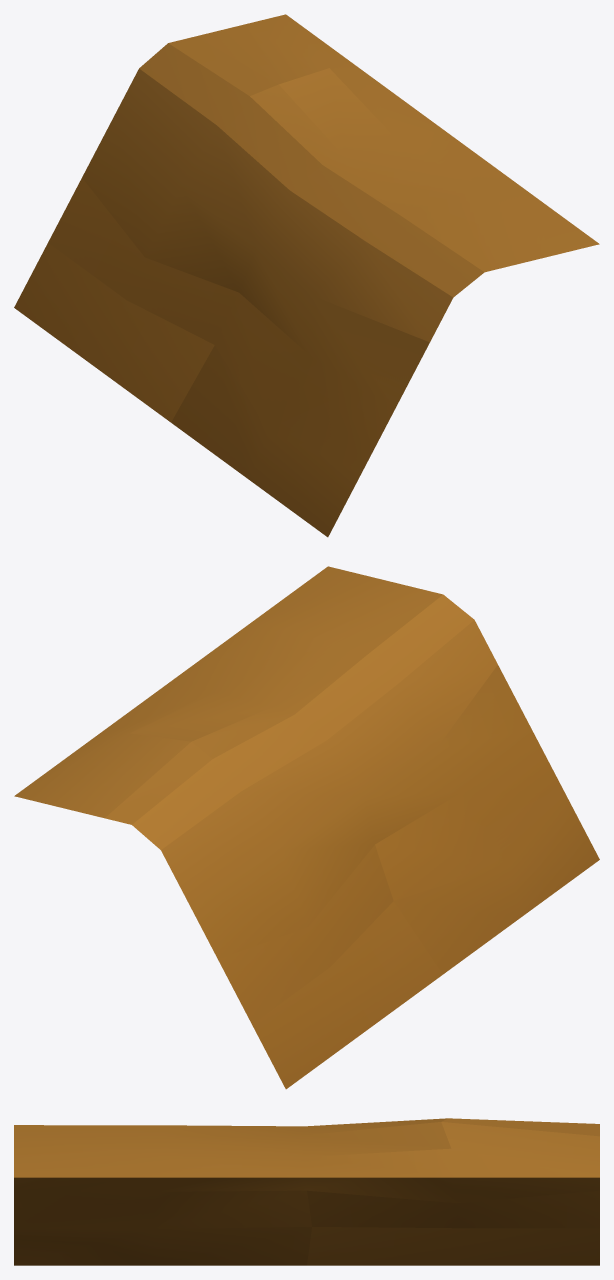
The model's file is cGround_B_Side_1_.obj.
The picture shows the model from 3 angles, top to bottom: view 1: azimuth 30°, elevation 25°; view 2: azimuth 150°, elevation 25°; view 3: azimuth 270°, elevation 25°; orthographic projection. The views are drawn at different scales.
Visible parts, largest first — view 1: cGround_B_Side_1_; view 2: cGround_B_Side_1_; view 3: cGround_B_Side_1_.
Boxes of the visible parts, x1,y1,x2,y2 form: cGround_B_Side_1_: (14, 14, 599, 537); cGround_B_Side_1_: (14, 566, 599, 1089); cGround_B_Side_1_: (14, 1118, 599, 1265).
Bounding box in the file's own units: 4 × 3.4 × 8.
